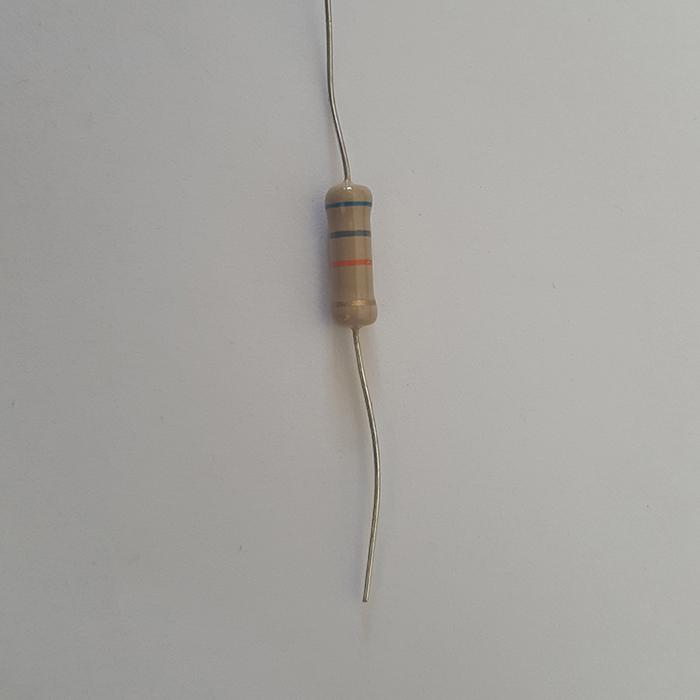resistor: (325, 180, 377, 328)
